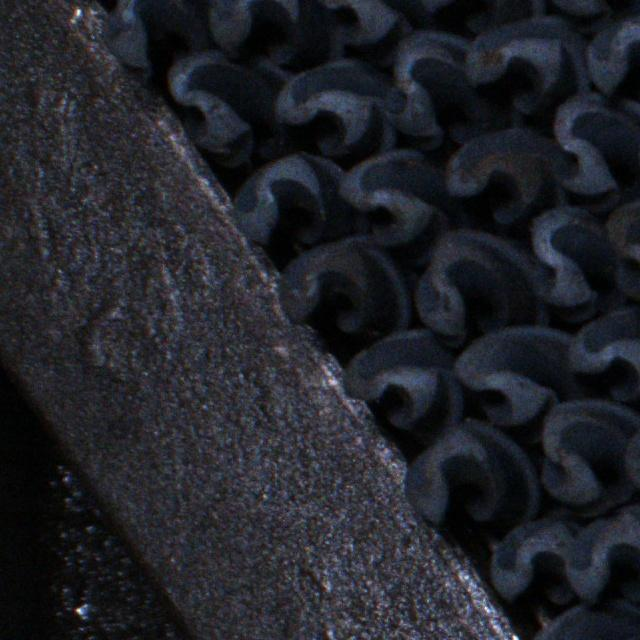tool_b: (383, 31, 520, 149), (416, 231, 552, 344), (407, 417, 540, 528), (166, 49, 291, 164), (278, 237, 410, 341), (344, 329, 466, 440), (232, 156, 367, 253), (464, 17, 593, 116), (340, 150, 453, 262), (275, 57, 401, 156), (451, 324, 574, 424), (441, 130, 567, 226), (536, 398, 638, 510), (524, 204, 621, 315), (550, 93, 640, 203), (490, 514, 589, 611), (108, 0, 220, 82), (204, 0, 345, 63), (567, 504, 640, 606), (568, 308, 640, 406), (313, 0, 419, 46), (604, 181, 640, 312), (586, 12, 640, 94), (530, 601, 640, 640), (411, 0, 546, 29), (534, 1, 638, 23)
